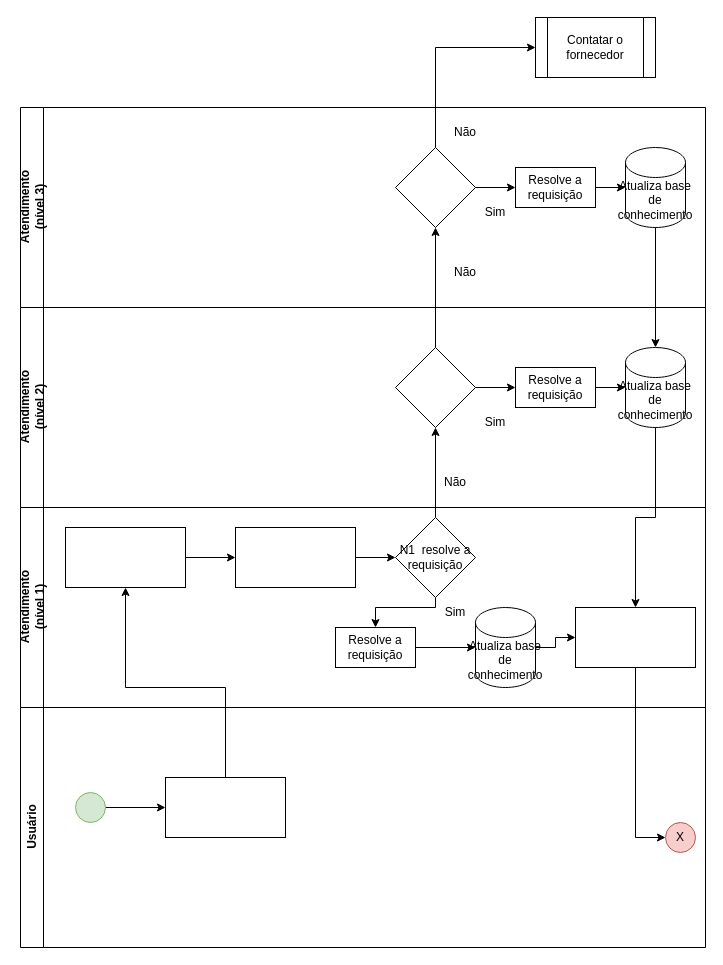
The diagram is 723 pixels wide and 965 high, and some of its shapes have lost their labels. Here are the shapes that lost their labels. From the top down, the centre of each, then its label:
(x=435, y=187): N3 resolve a requisição
(x=435, y=387): N2 resolve a requisição
(x=125, y=557): Agente classifica, registra e prioriza
(x=295, y=557): Verifica a requisição
(x=635, y=637): Comunica o usuário
(x=225, y=807): Usuário abre chamado
